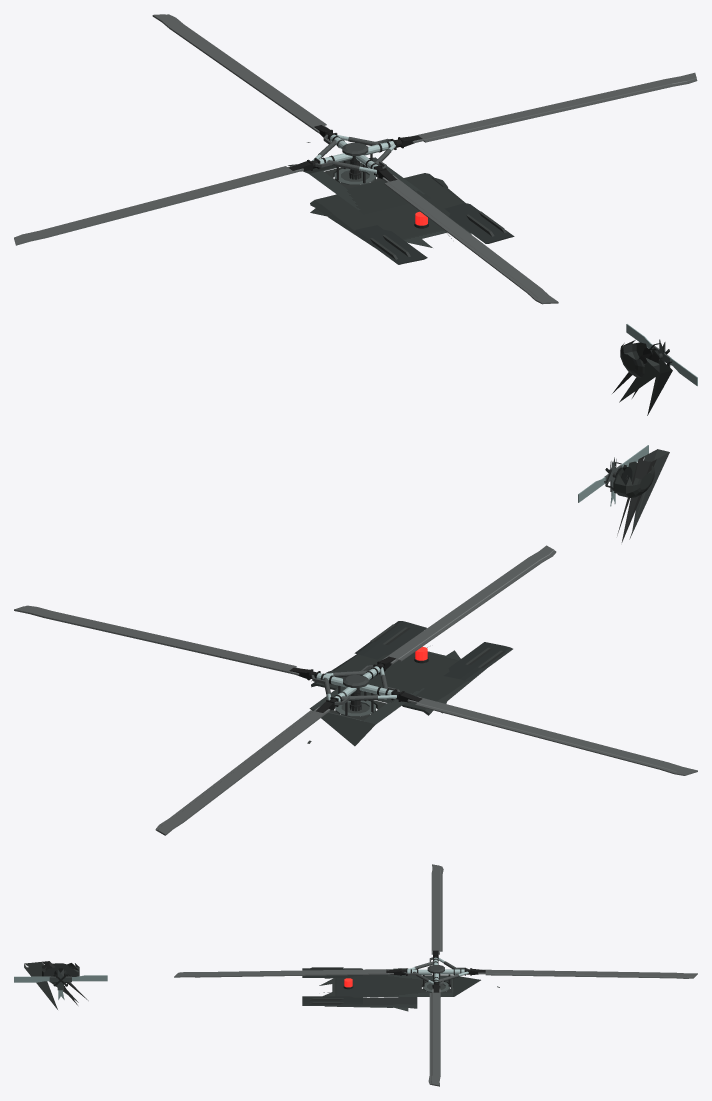
The model's file is rotor.glb.
The picture shows the model from 3 angles, top to bottom: view 1: azimuth 30°, elevation 25°; view 2: azimuth 150°, elevation 25°; view 3: azimuth 270°, elevation 25°; orthographic projection. The views are drawn at different scales.
Parts seen in each view (by area): view 1: Object_38, Object_17, Object_14, Object_43; view 2: Object_38, Object_17, Object_14, Object_43; view 3: Object_38, Object_17, Object_43, Object_14.
Part boxes in pixels (x1,y1,x2,y2): Object_38: [14, 14, 697, 304]; Object_17: [288, 157, 659, 377]; Object_14: [612, 352, 672, 415]; Object_43: [626, 324, 697, 387]; Object_38: [14, 545, 697, 835]; Object_17: [309, 461, 654, 746]; Object_14: [617, 449, 669, 542]; Object_43: [578, 445, 648, 506]; Object_38: [174, 864, 697, 1086]; Object_17: [42, 963, 480, 1011]; Object_43: [14, 968, 107, 999]; Object_14: [24, 961, 88, 1009].
Size of the model in its own units: 14.93 by 1.49 by 19.5.
7 materials, 7 textured.
